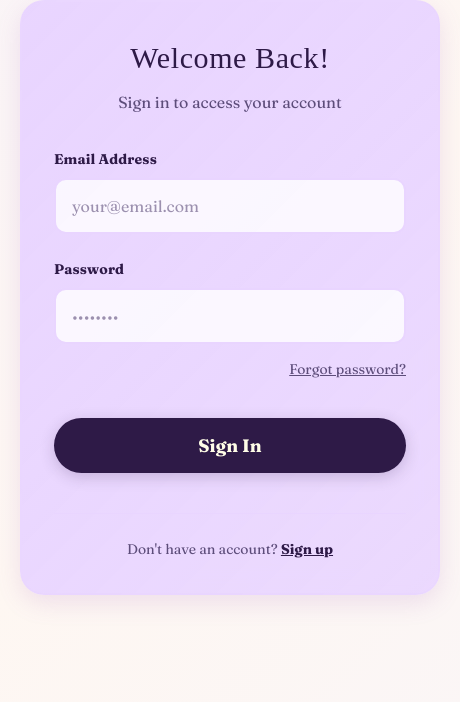
Test: LoginForm › Form Validation › should show error when password is empty
Type "test@example.com" into the field labelled "Email Address" at (230,206), box [54,178,406,234]
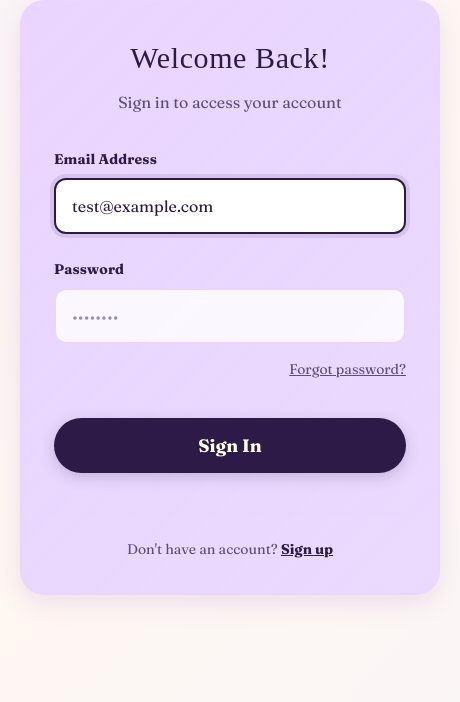
Click the button "Sign In" at (230,446), box [54,418,406,473]
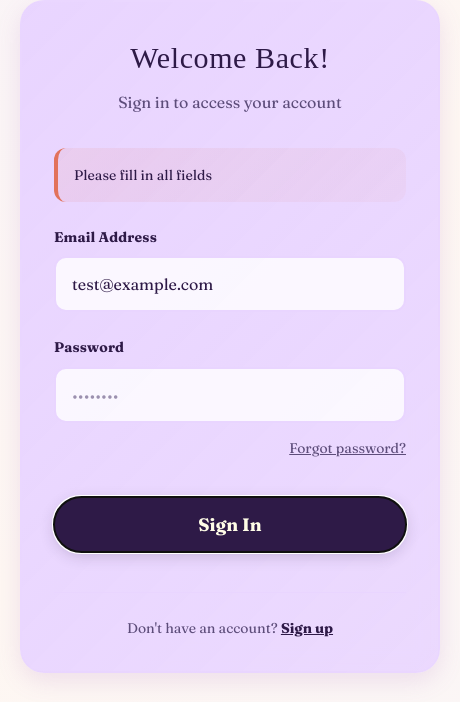
Result: the text "Please fill in all fields" is shown at [54,148,406,202]
